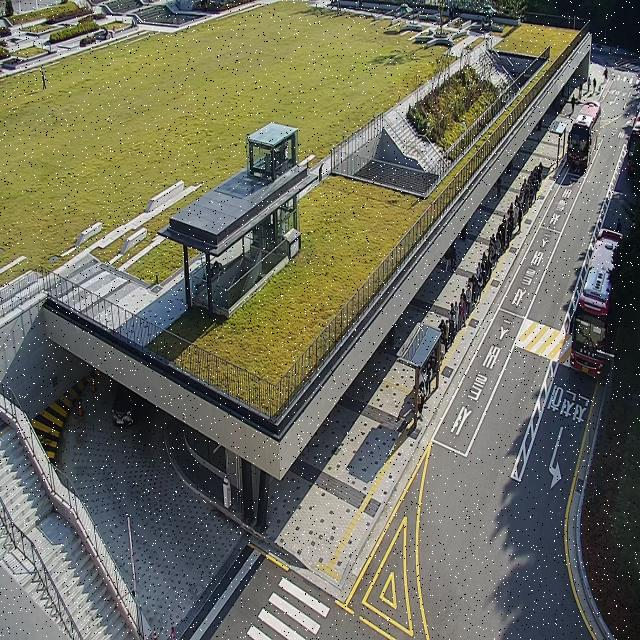queue: (414, 159, 544, 432)
